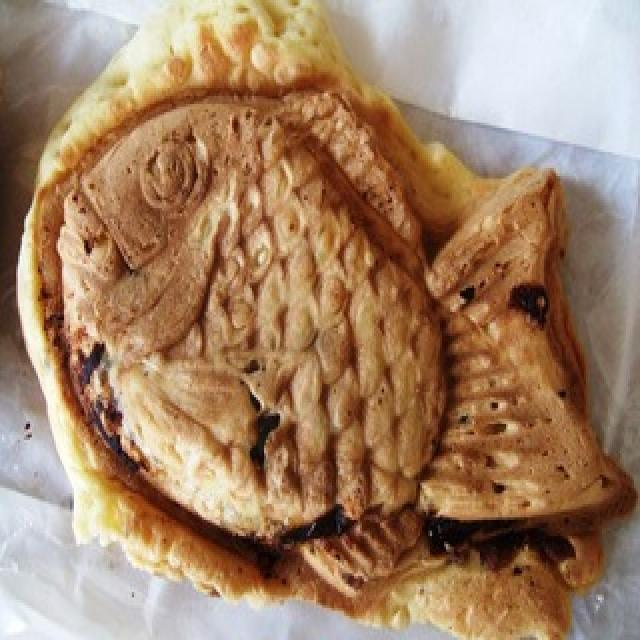熟制海鲜: (56, 75, 628, 544)
